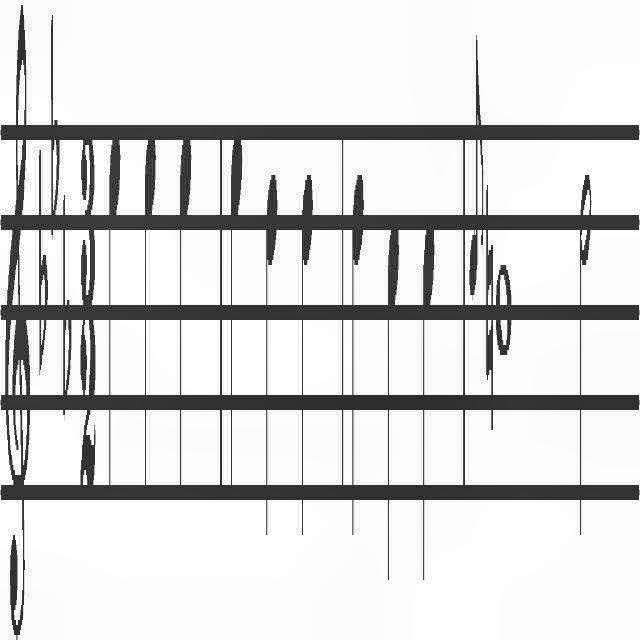Bass-clef: (4, 0, 32, 634)
Bemol: (62, 183, 72, 424), (38, 150, 48, 390), (51, 19, 60, 247)
Full-note: (494, 254, 512, 362)
Quarter-note: (350, 165, 366, 550), (420, 209, 436, 587), (142, 131, 158, 503), (178, 125, 194, 497), (386, 202, 400, 594), (264, 159, 278, 547), (107, 116, 121, 497), (300, 169, 314, 547), (229, 126, 243, 494)
